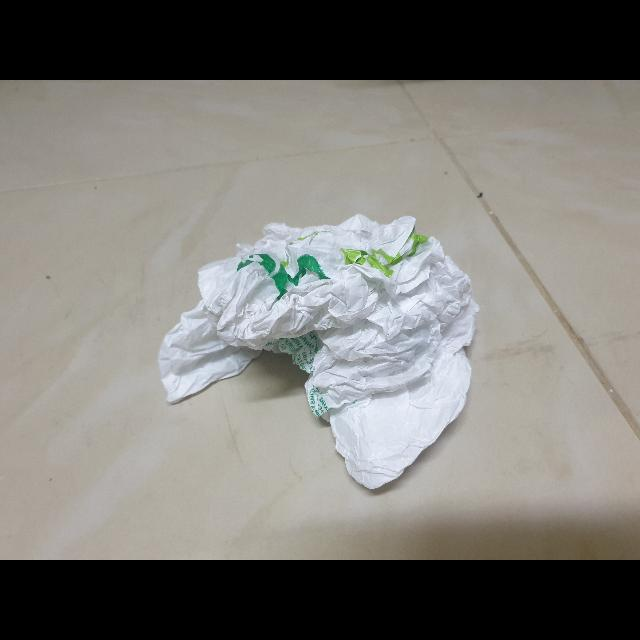plastic_bag: (147, 207, 497, 497)
